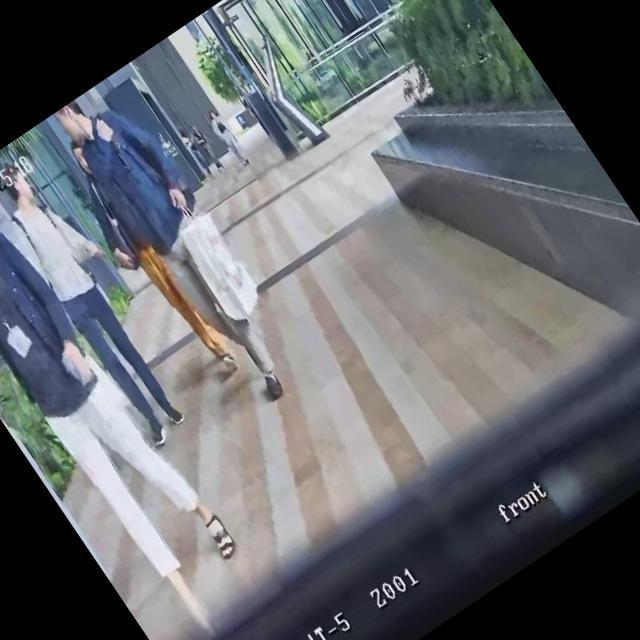person: (0, 163, 243, 604), (47, 73, 316, 420), (0, 144, 214, 451), (48, 132, 242, 390), (205, 108, 252, 169), (184, 121, 227, 176), (176, 126, 216, 179)
